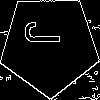J: (24, 20, 69, 46)
